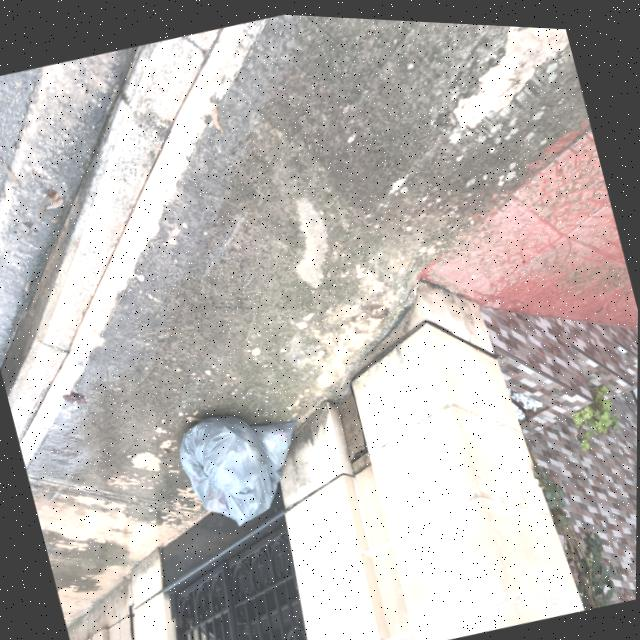Recycled Waste -Grey or Green Bag-: (169, 391, 317, 536)
